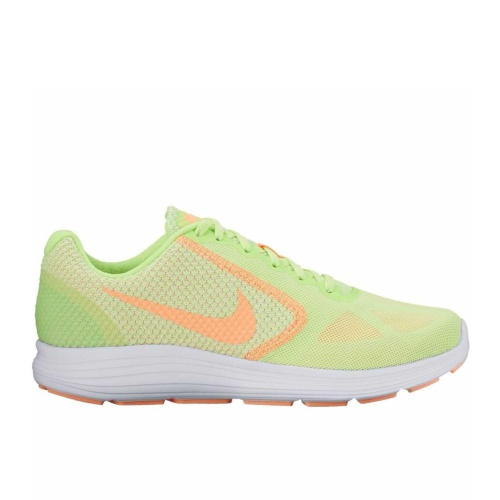nike: (100, 283, 261, 353)
